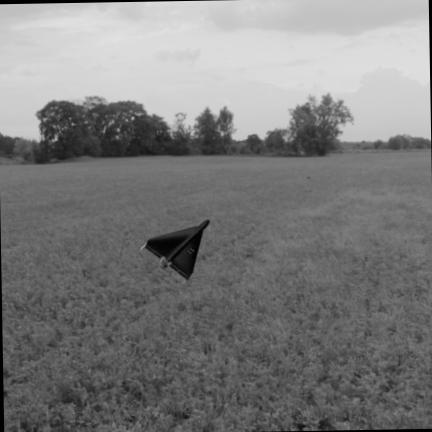Shahed: (140, 218, 209, 282)
